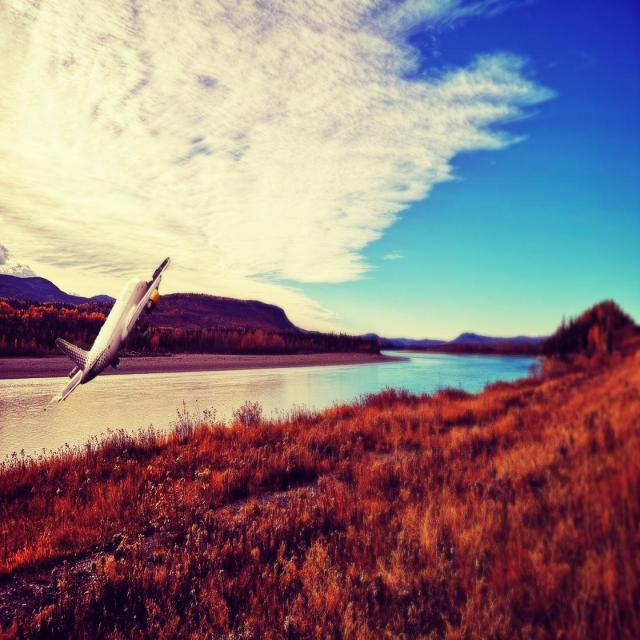airplane: (43, 256, 170, 411)
